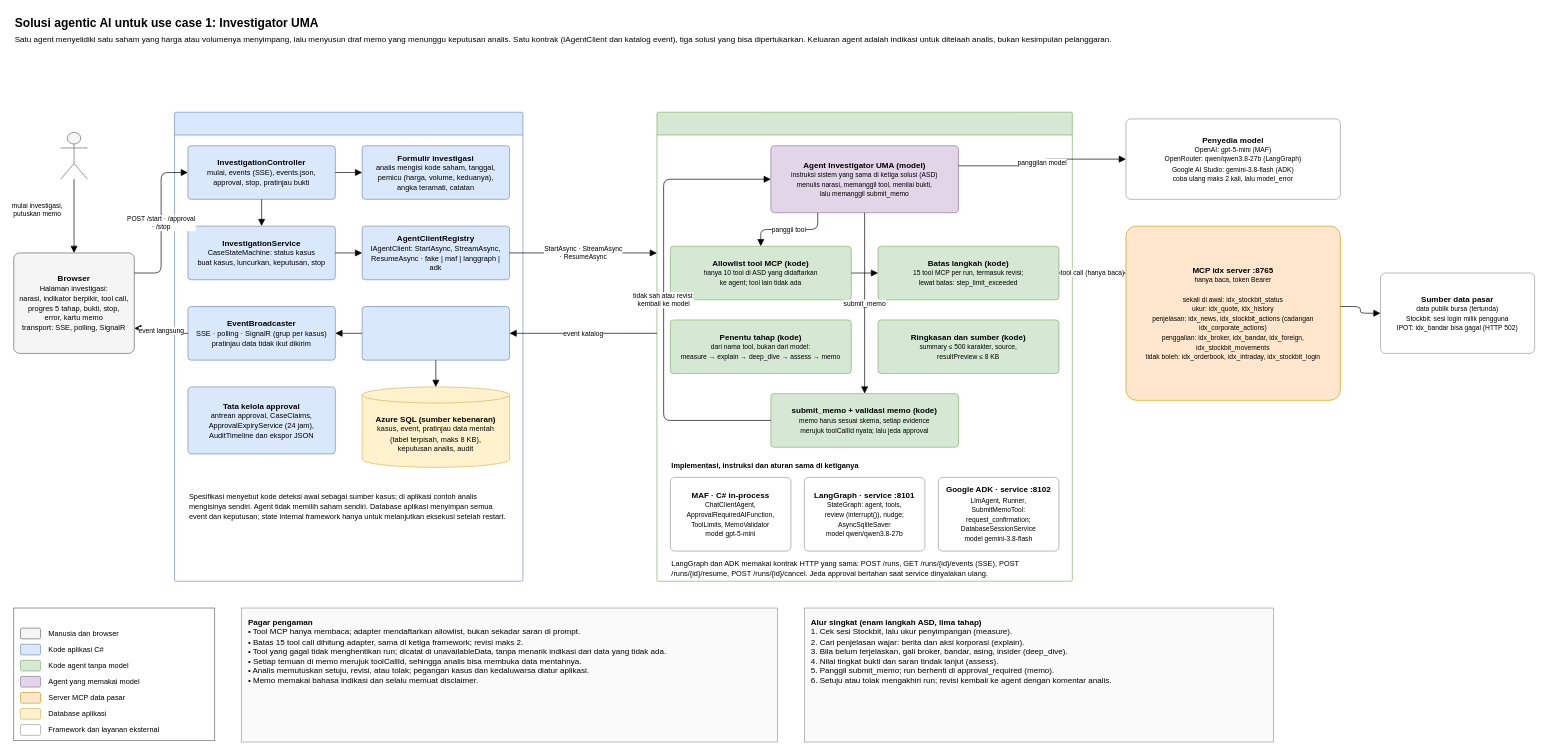
Some shapes in this 1546 by 754 pixel diagram are drawn without their labels. Here are the shapes that lost their labels. From the top down, the box of each, then its label:
(60, 132, 87, 179): Analis / supervisor
(174, 112, 523, 581): Aplikasi .NET MVC (Surveillance.Web)
(361, 306, 510, 360): RunPump membaca StreamAsync, menyimpan setiap event, memisahkan pratinjau data
(656, 112, 1072, 581): Solusi agent (satu dari tiga, dipilih di halaman Setting)
(13, 607, 215, 741): Keterangan warna
